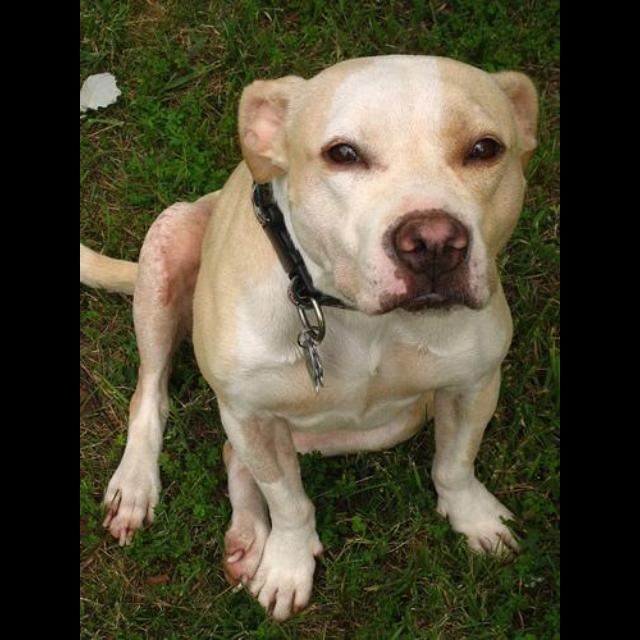amstaff: (82, 53, 541, 623)
